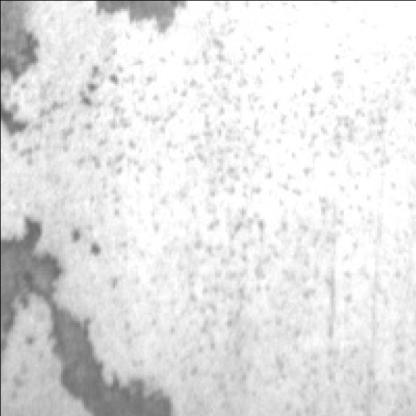patches: (52, 295, 181, 414), (2, 210, 64, 339), (2, 0, 46, 85), (92, 0, 196, 33)
pitted_surface: (68, 35, 412, 339)
